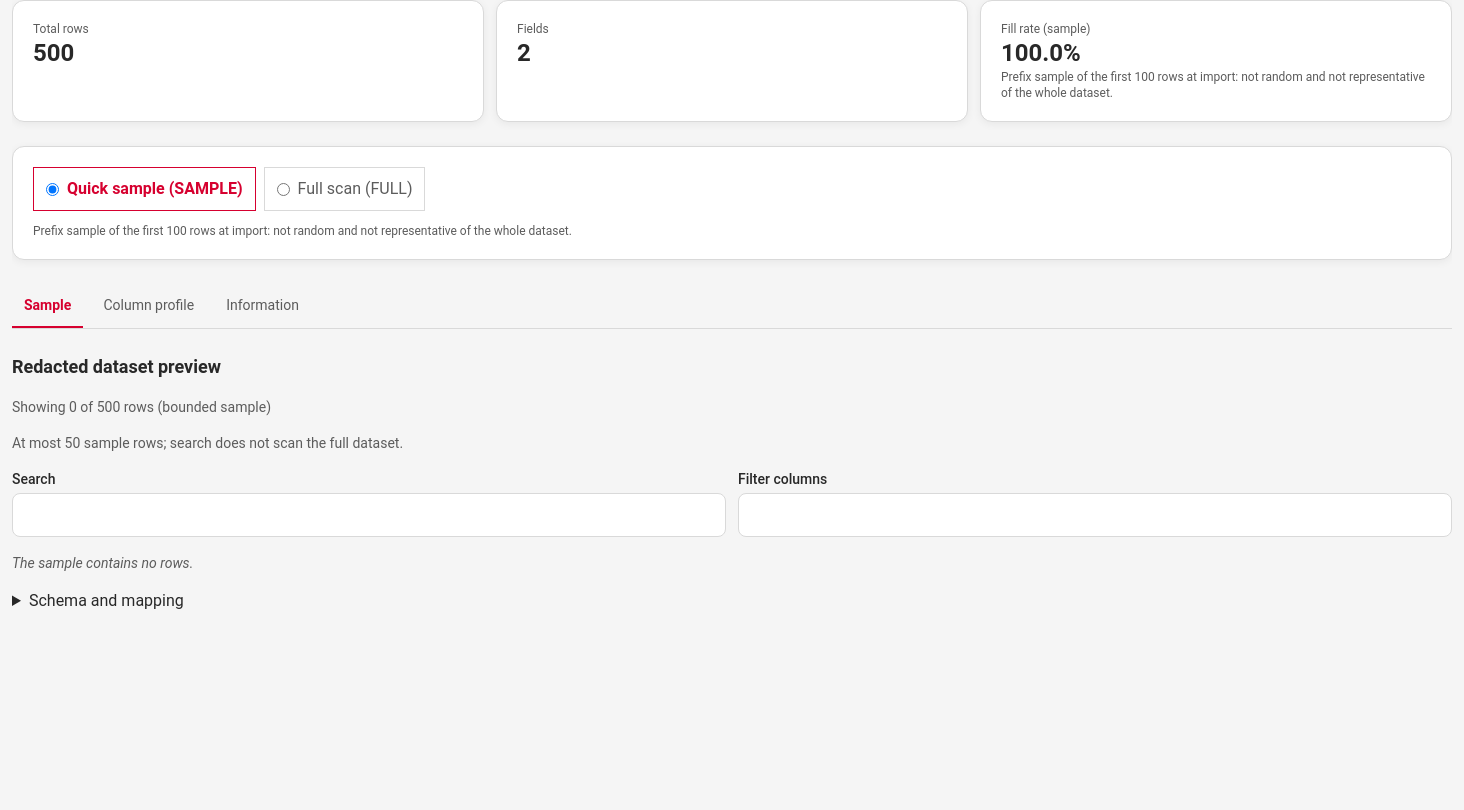
Scenario: marks an old-fingerprint COMPLETE profile stale and offers no re-run
The image size is (1464, 810).
Click the tab "Column profile".
click(149, 306)  # box [91,284,206,328]
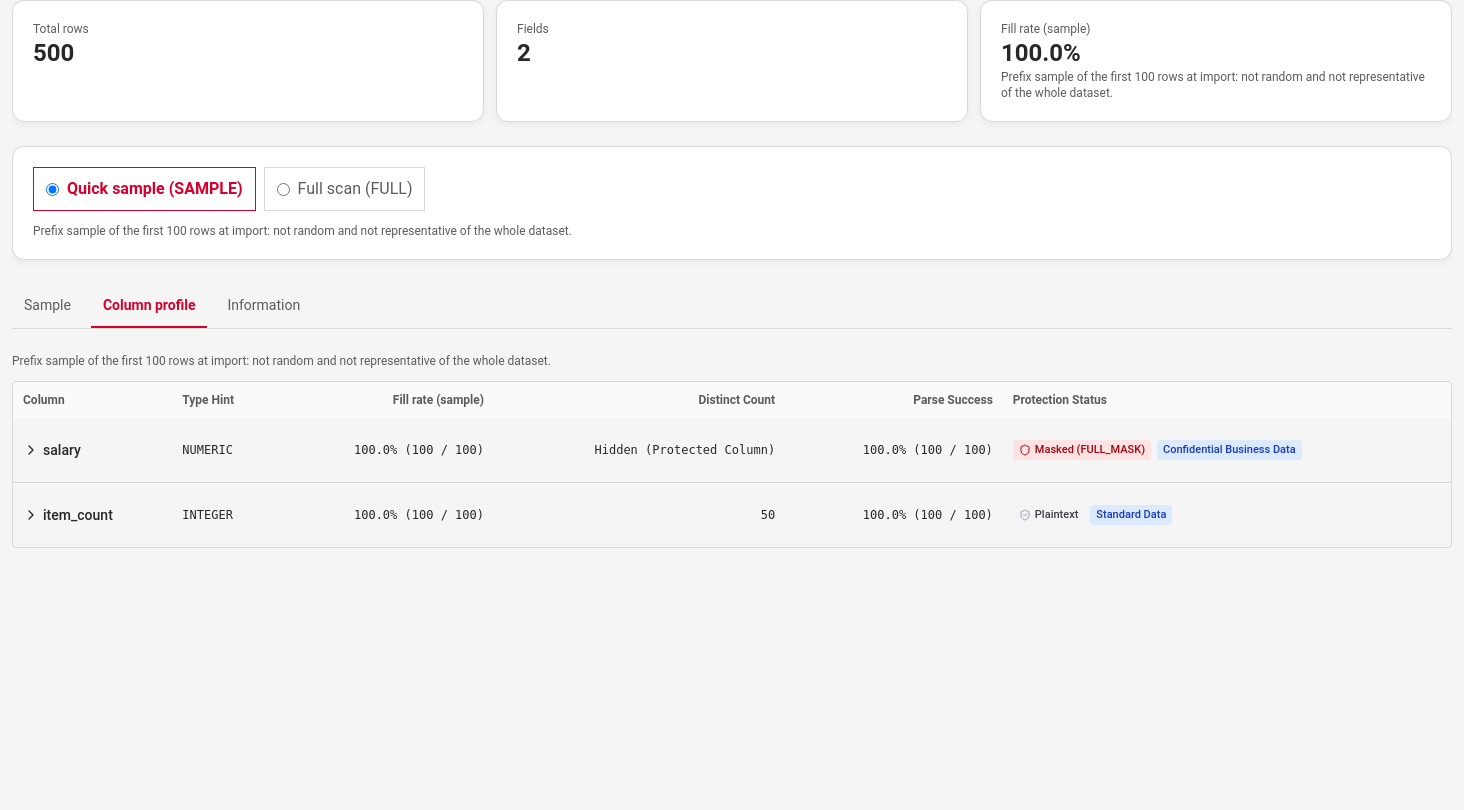
Click the radio button labelled "Full scan (FULL)".
click(283, 189)  # box [277,182,290,196]
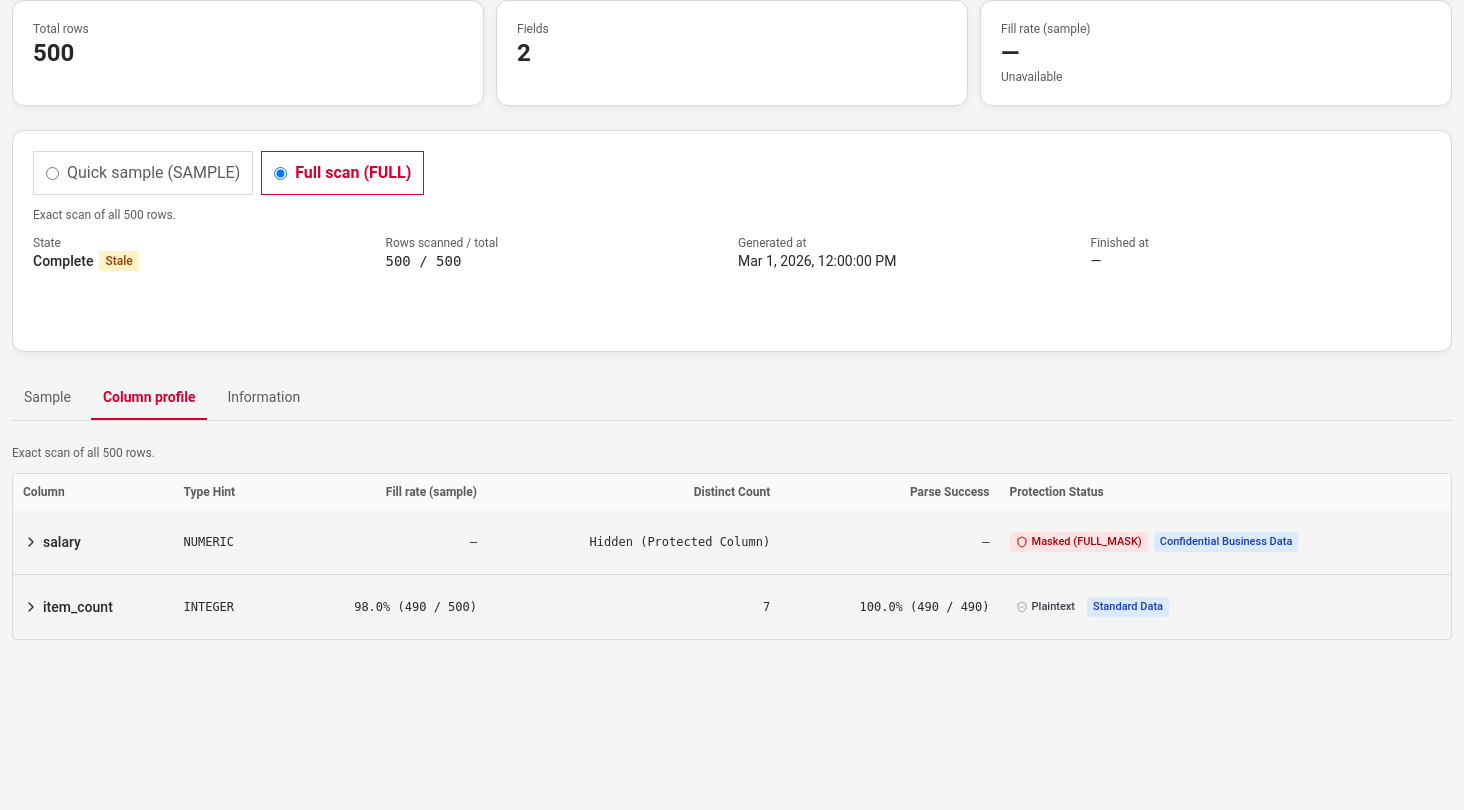
Now the text "Stale" is shown, box [100,251,139,271]
